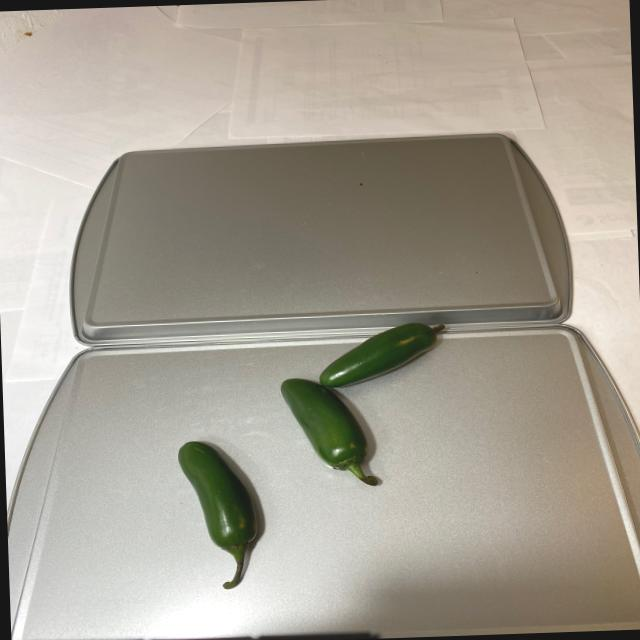chilli: (167, 318, 462, 599)
